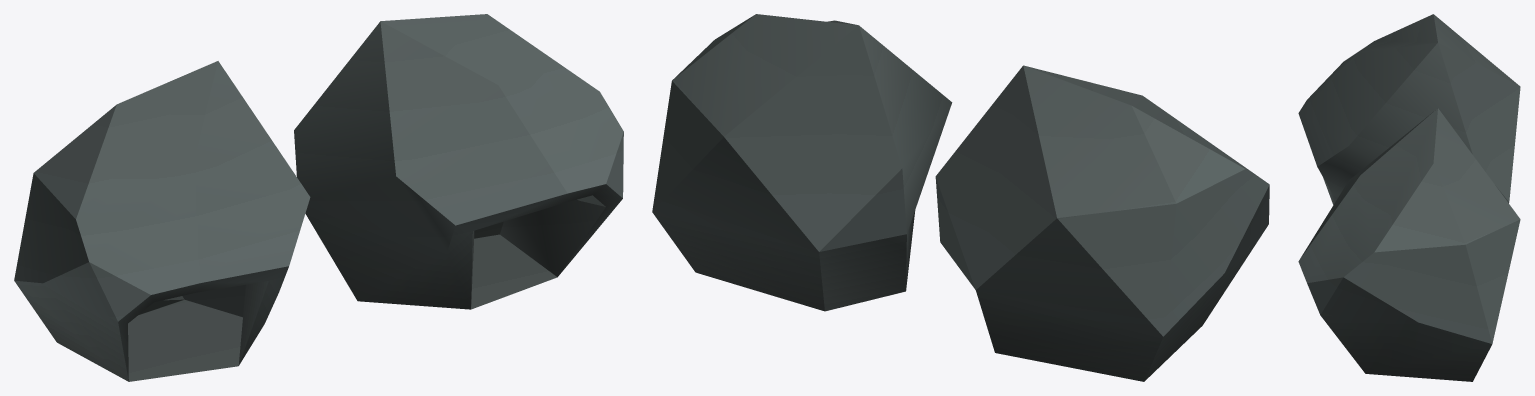
The model's file is m_bg_cave_01.fbx.
The picture shows the model from 3 angles, left to right: view 1: azimuth 30°, elevation 25°; view 2: azimuth 150°, elevation 25°; view 3: azimuth 270°, elevation 25°; orthographic projection. The views are drawn at different scales.
Parts seen in each view (by area): view 1: m_bg_cave_01; view 2: m_bg_cave_01; view 3: m_bg_cave_01.
Part boxes in pixels (<box>): m_bg_cave_01: <box>14,14,623,381</box>; m_bg_cave_01: <box>652,14,1269,381</box>; m_bg_cave_01: <box>1298,14,1520,381</box>.
Bounding box in the file's own units: 7454 × 3494 × 3235.
